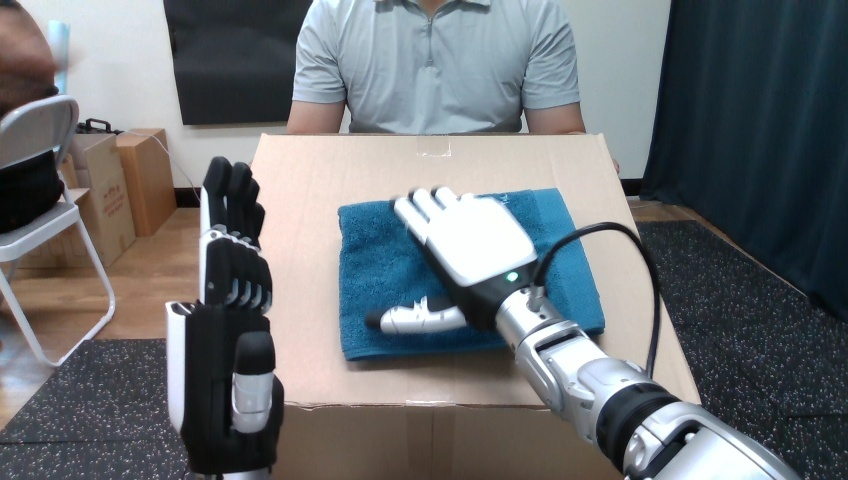left robot hand: (366, 187, 798, 479), (166, 157, 283, 478), (544, 229, 654, 370)
